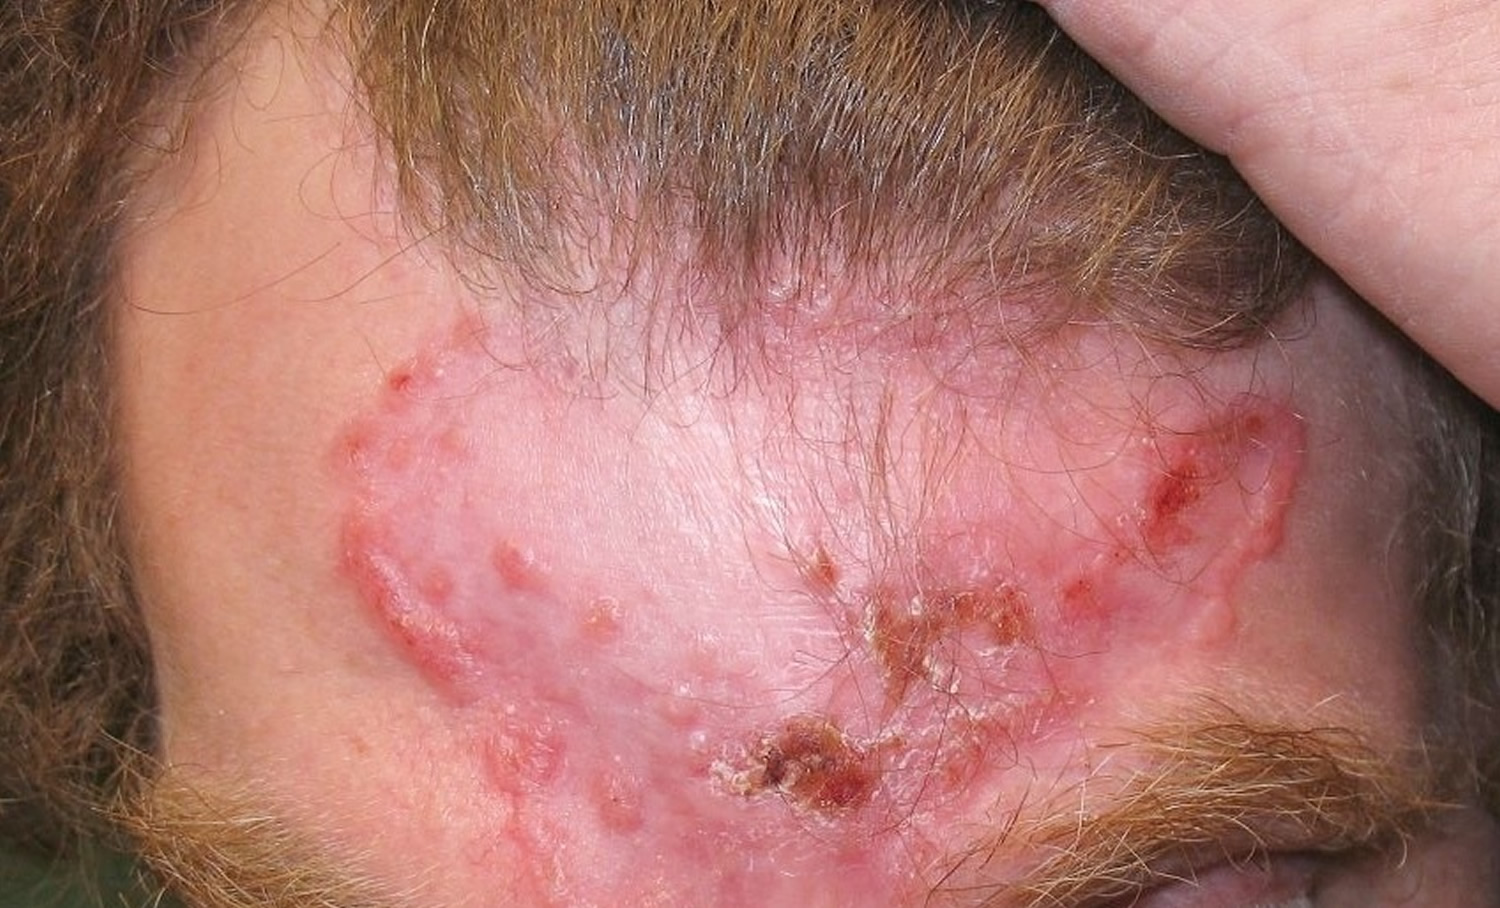Basa Cell Carcinoma: (309, 274, 1316, 858)
